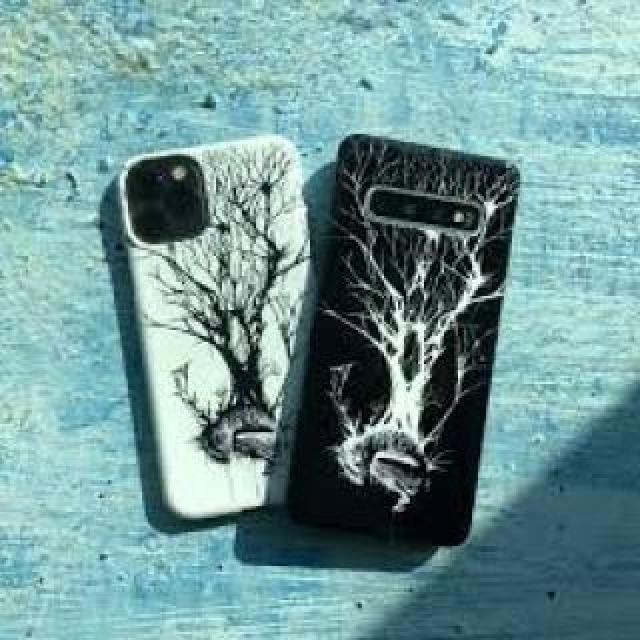smart phone: (320, 124, 530, 558), (117, 135, 298, 528)
